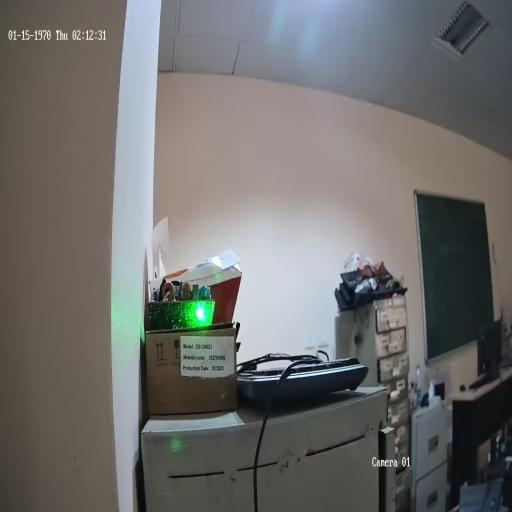laser: (196, 304, 205, 322)
